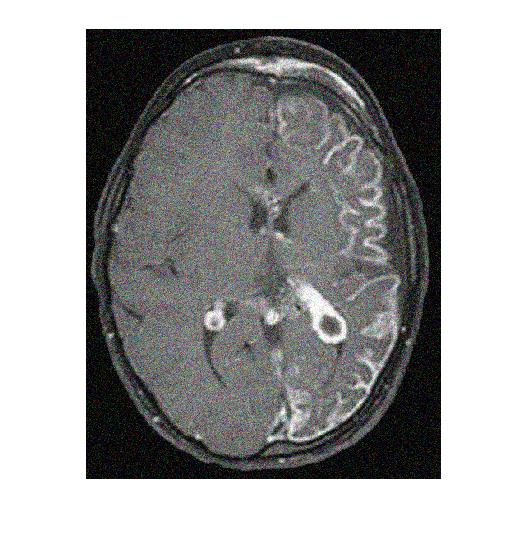Brain_Cancer: (289, 275, 349, 348)
